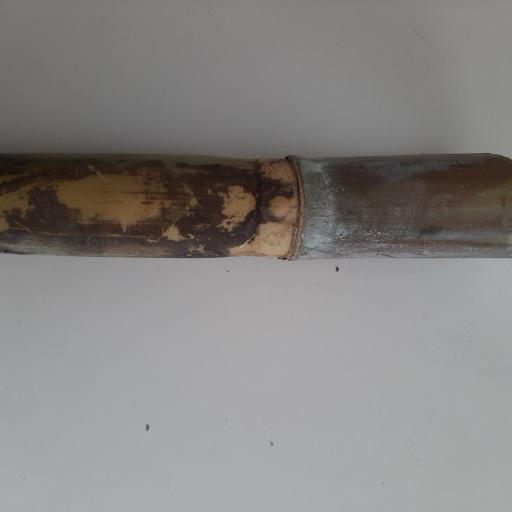Bud: (260, 193, 295, 222)
